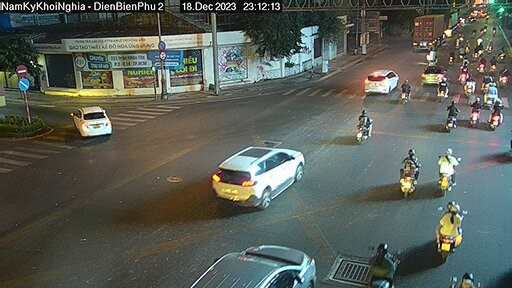car: (186, 236, 329, 288), (210, 138, 316, 205), (64, 102, 122, 138), (361, 62, 400, 97), (420, 62, 447, 85)
motorbike: (420, 197, 479, 256), (357, 239, 404, 288), (389, 142, 422, 202), (430, 143, 465, 188), (348, 107, 379, 140), (485, 100, 506, 131), (441, 100, 463, 127), (483, 82, 504, 109), (400, 77, 418, 103), (494, 66, 511, 88), (467, 97, 483, 120), (435, 78, 453, 98), (498, 45, 511, 65), (460, 78, 476, 93), (445, 49, 457, 67), (488, 56, 502, 71), (477, 58, 488, 69)
truck: (410, 12, 447, 53)
